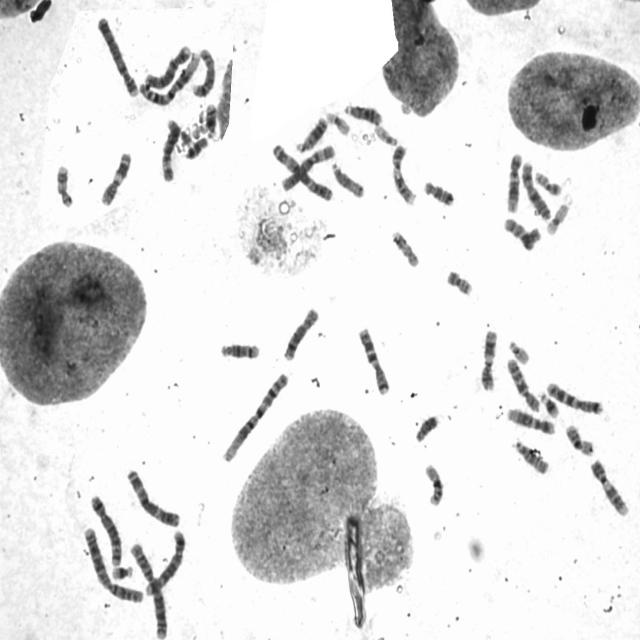A1: (218, 367, 290, 464), (134, 44, 202, 108)
A2: (79, 520, 146, 604), (126, 538, 168, 639)
A3: (268, 138, 334, 202), (123, 463, 182, 528)
B4: (94, 11, 140, 98), (141, 40, 193, 90)
B5: (141, 524, 187, 598), (86, 489, 123, 568)
C10: (503, 353, 541, 413), (498, 215, 544, 255)
C11: (96, 146, 132, 208), (478, 324, 500, 392)
C12: (504, 402, 556, 436), (502, 148, 524, 214)
C6: (272, 138, 336, 196), (157, 115, 182, 183)
C7: (354, 321, 391, 396), (543, 376, 606, 415)
C8: (280, 302, 320, 362), (190, 42, 217, 98)
C9: (587, 454, 631, 518), (388, 138, 418, 206)
D13: (292, 111, 328, 154), (340, 98, 384, 126)
D14: (216, 337, 262, 361), (204, 103, 220, 143)
D15: (509, 434, 551, 476), (328, 156, 366, 200)
E16: (562, 419, 596, 457), (421, 458, 445, 508)
E17: (388, 224, 421, 268), (52, 160, 74, 210)
E18: (420, 175, 456, 207), (181, 132, 209, 160)
F19: (543, 198, 570, 236), (322, 106, 352, 136)
F20: (442, 264, 475, 297), (532, 166, 564, 196)
G21: (536, 387, 561, 419), (109, 561, 134, 581)
G22: (371, 119, 400, 146), (505, 334, 531, 364)
X: (519, 156, 553, 222)
Y: (411, 409, 441, 444)
